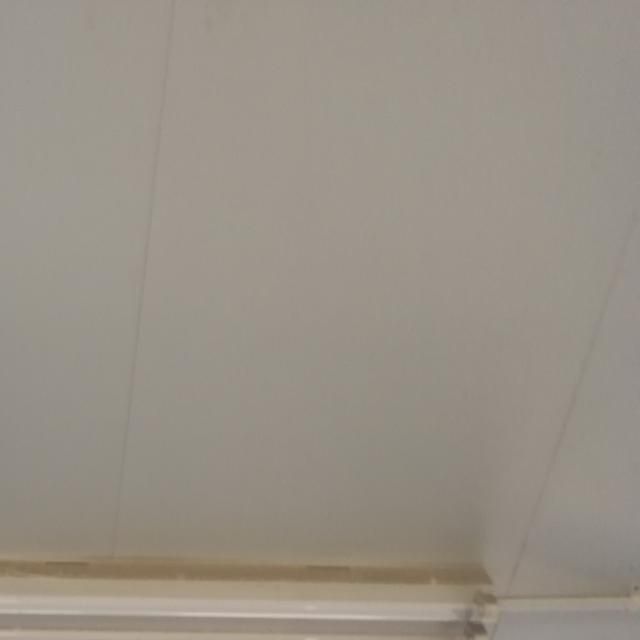fluorescent tube: (0, 505, 537, 639)
